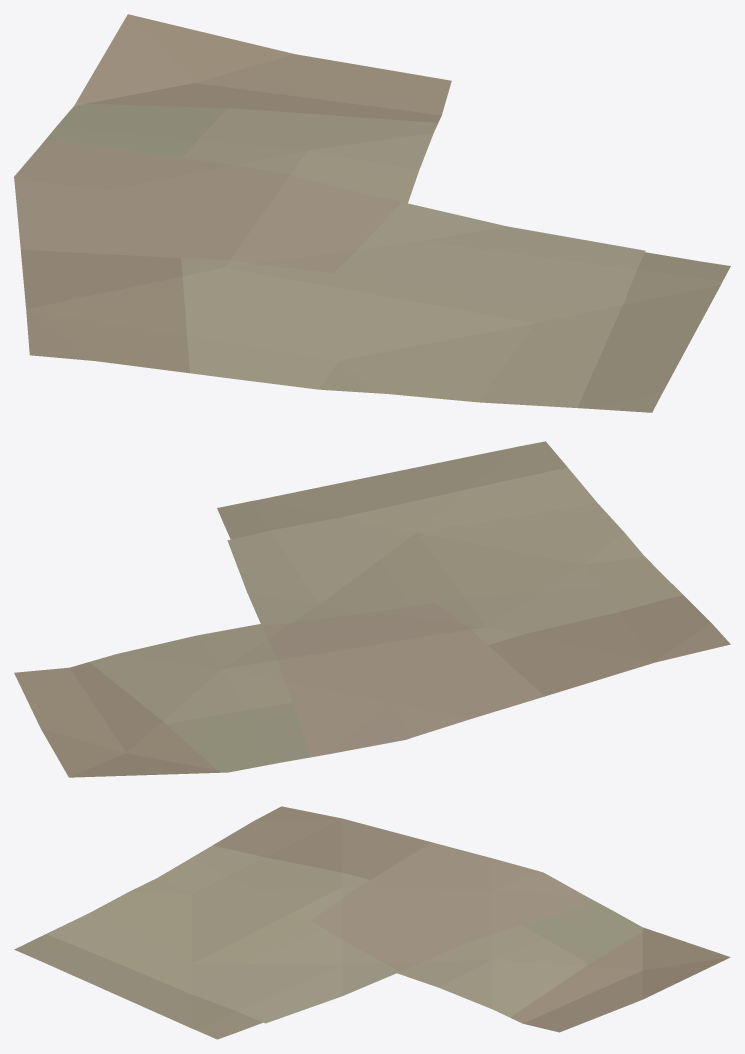
The model's file is farm_-23_-25_soil.glb.
3 renders of one model, top to bottom at view 1: azimuth 30°, elevation 25°; view 2: azimuth 150°, elevation 25°; view 3: azimuth 270°, elevation 25°, orthographic. The views are drawn at different scales.
Visible parts, largest first — view 1: geometry_0; view 2: geometry_0; view 3: geometry_0.
Boxes of the visible parts, <box> form: geometry_0: <box>14,14,730,412</box>; geometry_0: <box>14,441,730,777</box>; geometry_0: <box>14,806,730,1039</box>.
Bounding box in the file's own units: 265 × 15.93 × 382.
